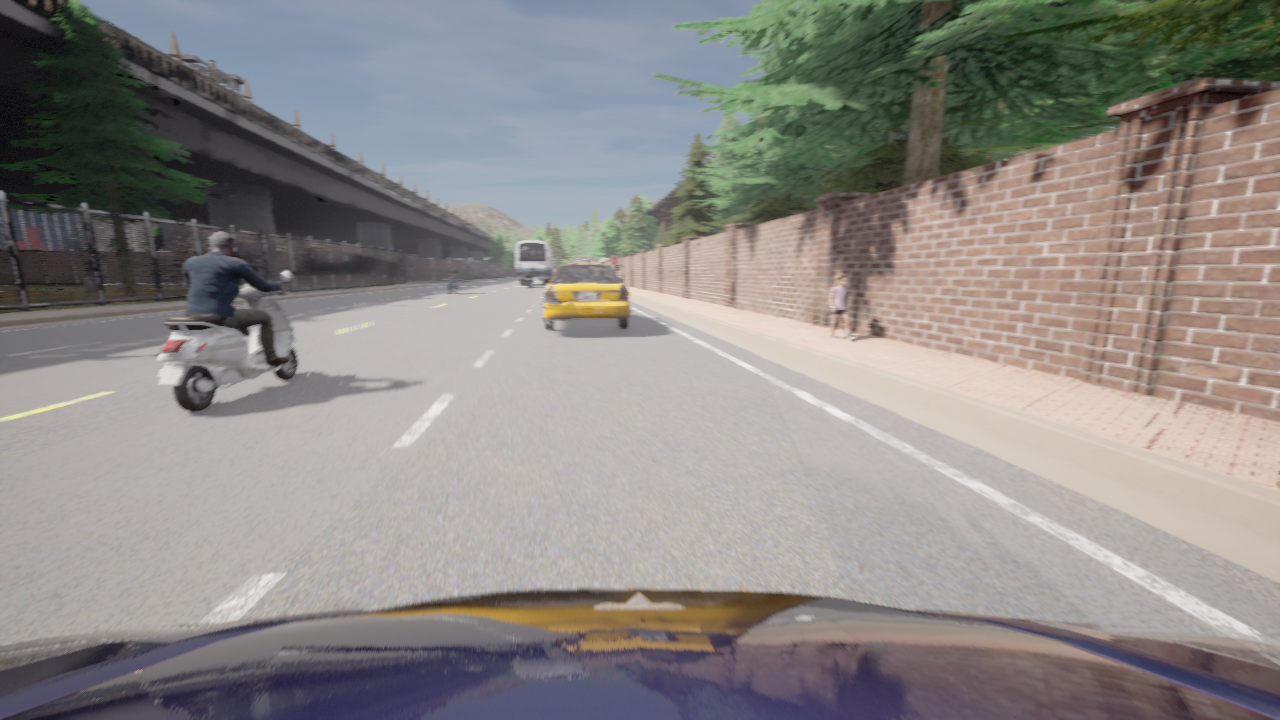cyclist: (0, 588, 1279, 719), (157, 270, 298, 411), (543, 257, 630, 330), (517, 241, 554, 284), (450, 275, 457, 293), (526, 274, 533, 287)
pedestrian: (829, 274, 855, 341)
